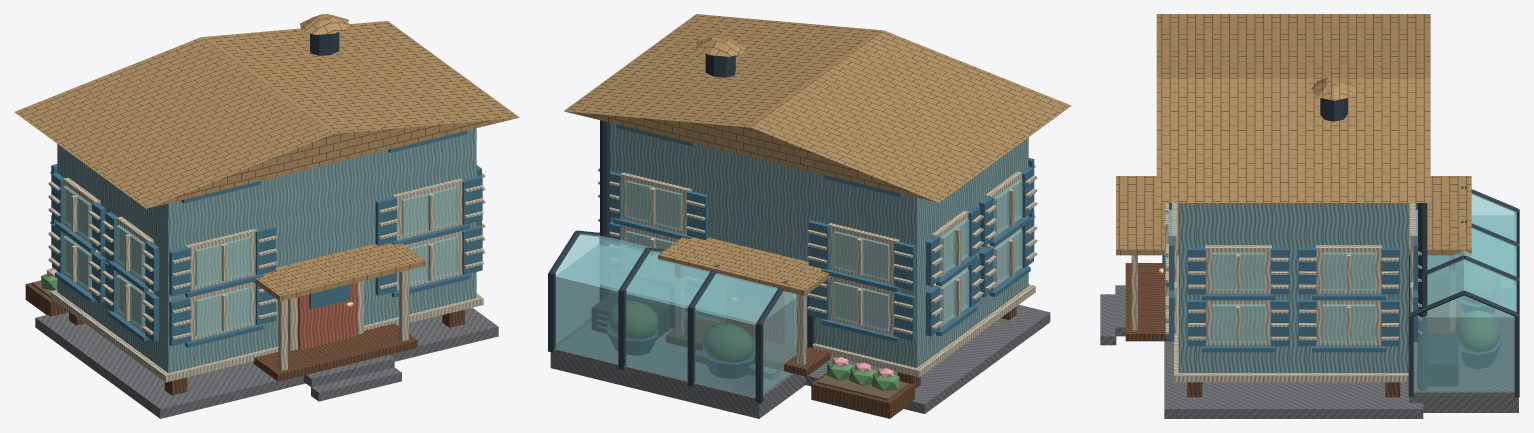
Rendered from house_beach_lv4_greenhouse.glb.
3 views of the same model, side by side, from view 1: azimuth 30°, elevation 25°; view 2: azimuth 150°, elevation 25°; view 3: azimuth 270°, elevation 25° (orthographic). The views are drawn at different scales.
Visible parts, largest first — view 1: gable_roof, walls, foundation, front_porch_canopy, front_deck, floor_trim, front_window_frame.003, front_window_frame.002, front_door, front_window_frame, front_window_frame.001, front_window_glass.003 (+35 smaller); view 2: gable_roof, walls, greenhouse_glazing, greenhouse_roof, greenhouse_plinth, foundation, back_porch_canopy, back_window_frame.003, back_window_frame.002, back_window_frame, floor_trim, back_deck (+42 smaller); view 3: gable_roof, walls, greenhouse_glazing, foundation, greenhouse_roof, greenhouse_plinth, front_porch_canopy, back_porch_canopy, right_window_frame.003, right_window_frame.002, right_window_frame.001, right_window_frame (+30 smaller).
Part boxes in pixels (box(x1,y1,x2,y2)): gable_roof: box(14, 21, 519, 208); walls: box(57, 128, 476, 372); foundation: box(35, 307, 498, 418); front_porch_canopy: box(254, 242, 425, 301); front_deck: box(253, 323, 417, 381); floor_trim: box(50, 290, 483, 382); front_window_frame.003: box(392, 178, 463, 240); front_window_frame.002: box(185, 228, 256, 290); front_door: box(298, 282, 357, 349); front_window_frame: box(185, 282, 255, 340); front_window_frame.001: box(397, 231, 462, 290); front_window_glass.003: box(401, 186, 457, 235); gable_roof: box(564, 14, 1071, 202); walls: box(610, 122, 1028, 367); greenhouse_glazing: box(555, 244, 807, 396); greenhouse_roof: box(555, 233, 777, 322); greenhouse_plinth: box(550, 328, 805, 418); foundation: box(805, 305, 1050, 413); back_porch_canopy: box(658, 237, 830, 295); back_window_frame.003: box(620, 172, 691, 234); back_window_frame.002: box(828, 223, 899, 284); back_window_frame: box(829, 276, 899, 335); floor_trim: box(685, 284, 1035, 377); back_deck: box(666, 320, 830, 376); gable_roof: box(1156, 14, 1430, 202); walls: box(1178, 203, 1408, 372); greenhouse_glazing: box(1413, 215, 1515, 391); foundation: box(1164, 341, 1423, 418); greenhouse_roof: box(1411, 193, 1516, 311); greenhouse_plinth: box(1409, 309, 1518, 412); front_porch_canopy: box(1116, 176, 1178, 255); back_porch_canopy: box(1409, 176, 1471, 255); right_window_frame.003: box(1315, 245, 1382, 293); right_window_frame.002: box(1205, 245, 1271, 293); right_window_frame.001: box(1316, 300, 1381, 345); right_window_frame: box(1206, 300, 1270, 345).
Size of the model in its own units: 6.6 by 4.75 by 6.19.
Materials: 13 (7 with a texture image).
